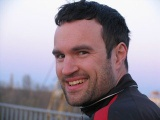male: (50, 10, 135, 108)
